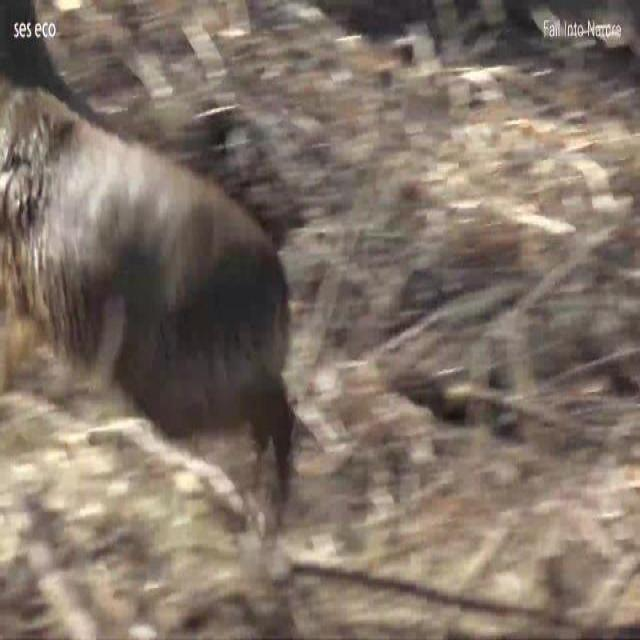deer: (0, 75, 296, 497)
